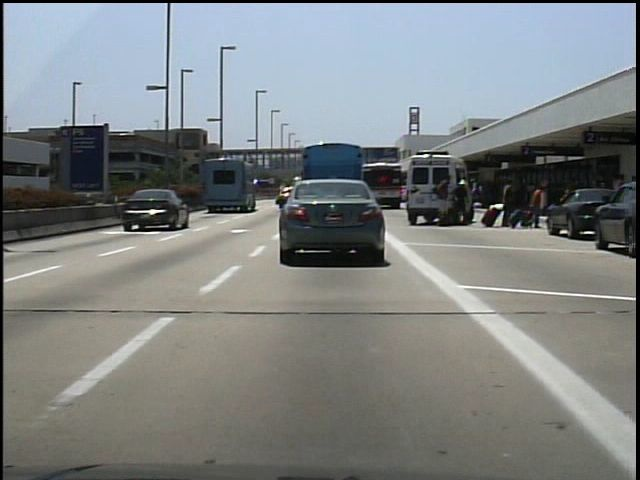person: (430, 170, 453, 226), (449, 175, 473, 228), (496, 177, 519, 231), (525, 178, 548, 232)
